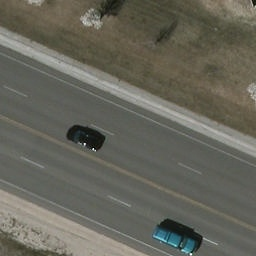car: (66, 125, 107, 154)
